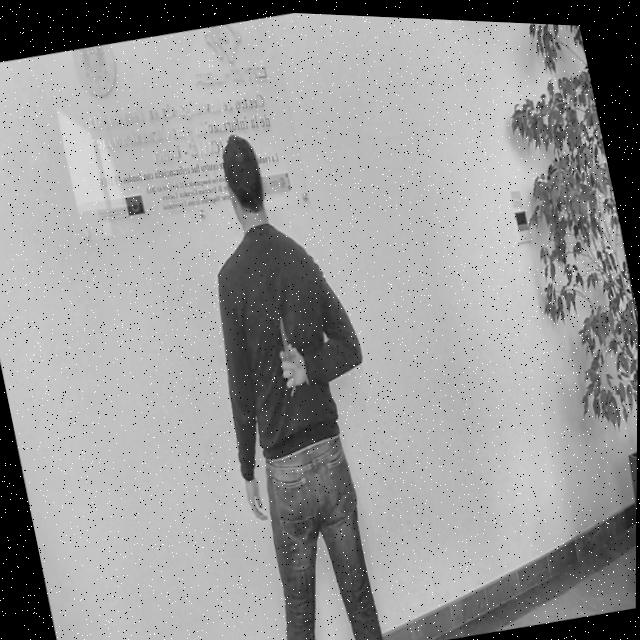knife: (275, 310, 291, 355)
